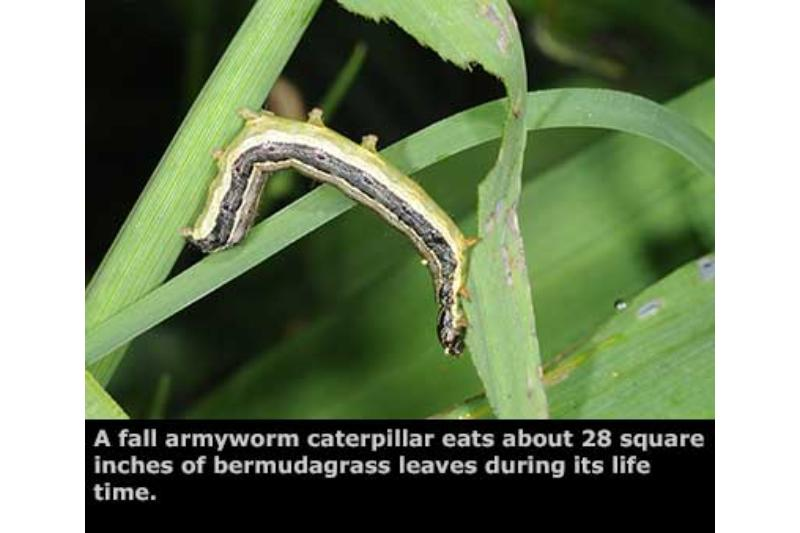fall-armyworm: (180, 107, 486, 359)
